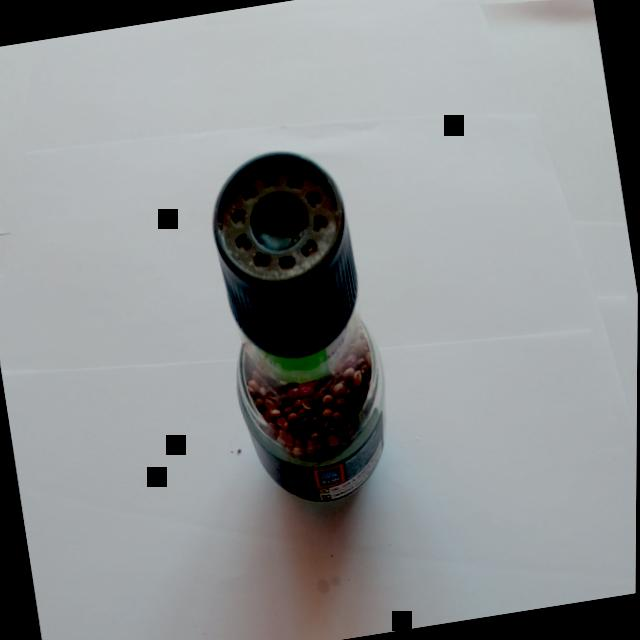Blackpepper: (197, 122, 408, 518)
